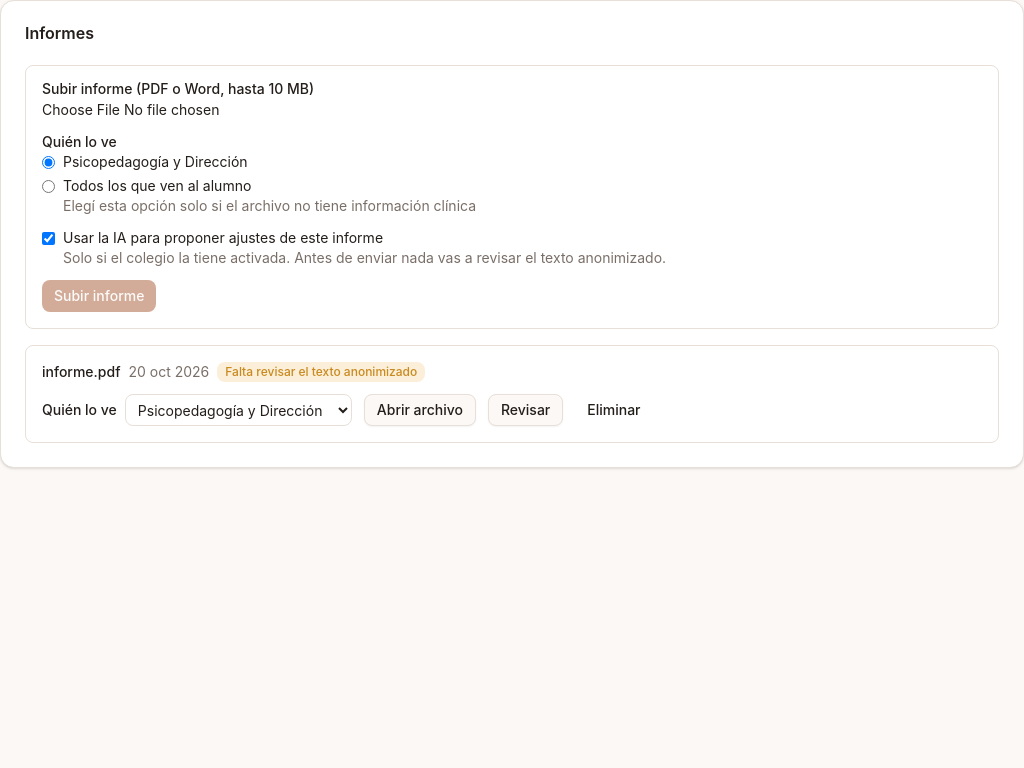
Scenario: StudentReportsSection › shows why the server refused an approval
Click the button "Revisar" at (526, 410), box [488,394,563,426]
(page scrolled)
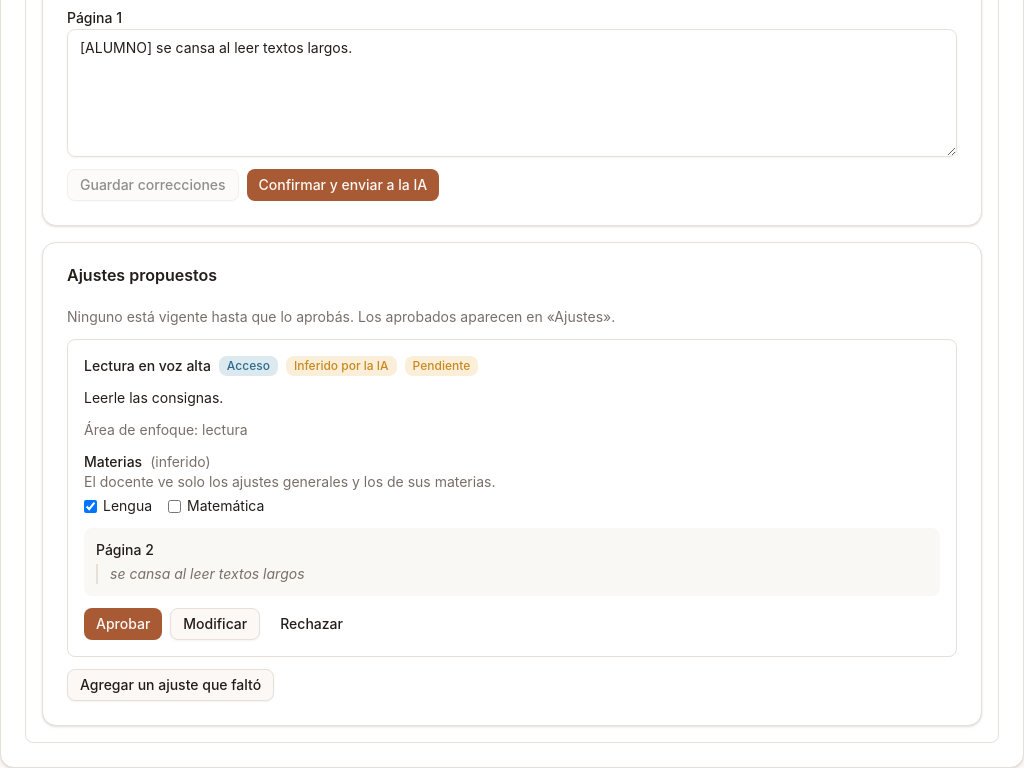
Click the button "Aprobar" at (123, 624), box [84,608,162,640]
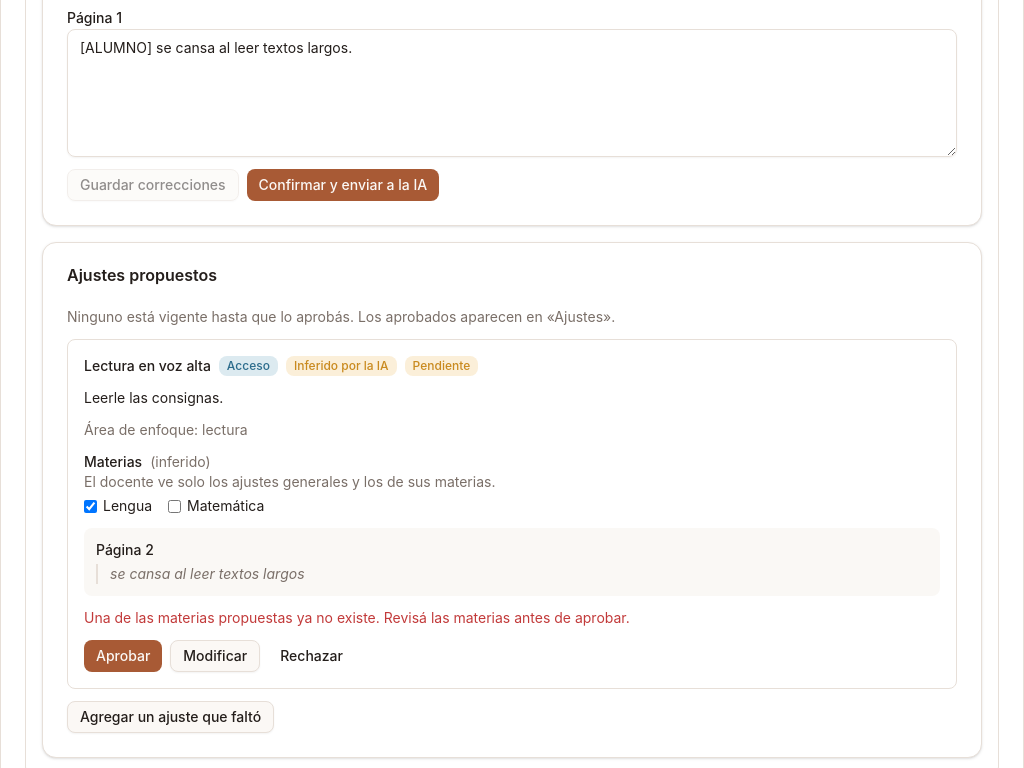
Now the text "Una de las materias propuestas ya no existe. Revisá las materias antes de aprobar." is shown, box [84,609,630,626]
